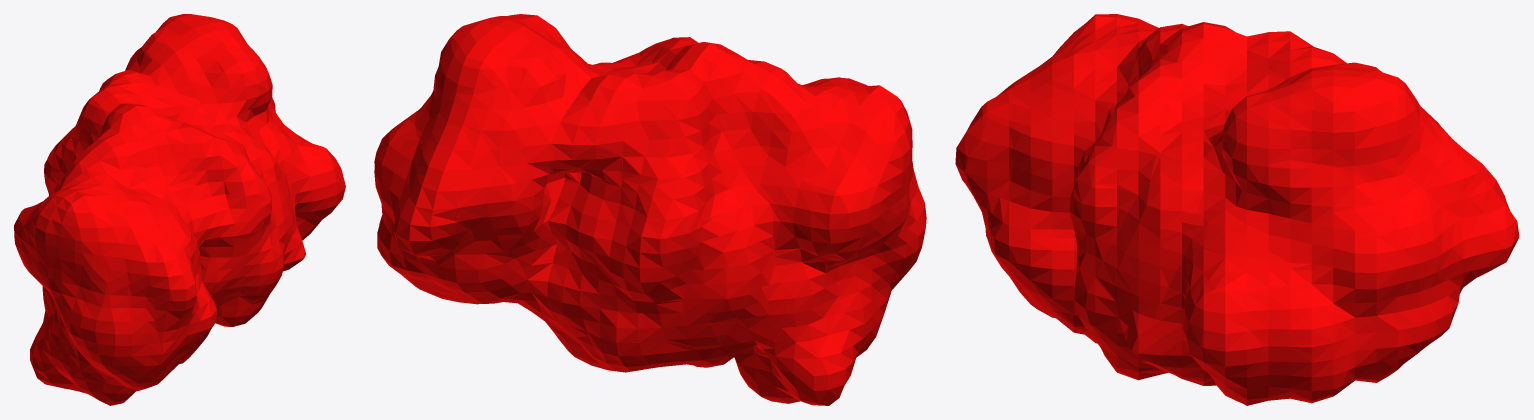
The model's file is selD_coarse.dae.
The picture shows the model from 3 angles, left to right: view 1: azimuth 30°, elevation 25°; view 2: azimuth 150°, elevation 25°; view 3: azimuth 270°, elevation 25°; orthographic projection. The views are drawn at different scales.
Visible parts, largest first — view 1: selD; view 2: selD; view 3: selD.
Boxes of the visible parts, x1,y1,x2,y2 form: selD: (14,14,345,405); selD: (374,14,926,405); selD: (955,14,1519,405).
Bounding box in the file's own units: 78.45 × 64.07 × 81.42.
